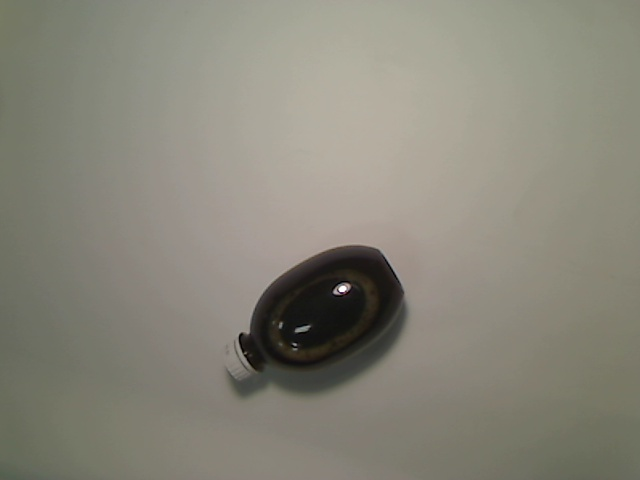plast_bottle: (219, 243, 407, 384)
